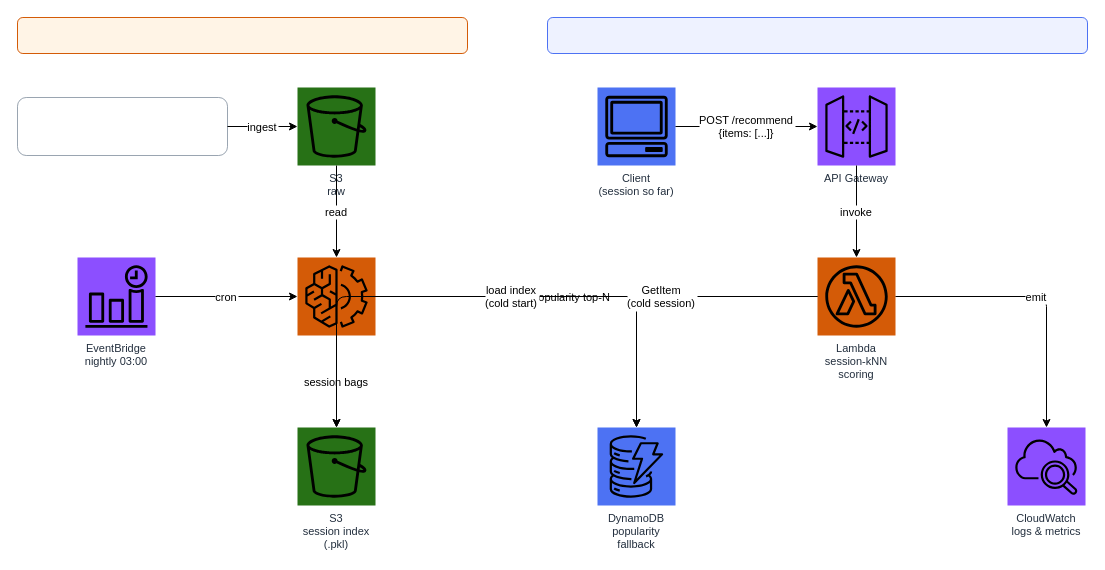
Image size: 1105x570. Some labels were removed from this diagram. Each missing label, with the centre of its shape:
"ECS Fargate sessionize + index" belongs at point (336, 296).
"Offline — nightly re-indexing" belongs at point (242, 35).
"Online — request-time scoring (no per-user precompute)" belongs at point (817, 35).
"Retailrocket events (views · carts · purchases)" belongs at point (122, 126).
